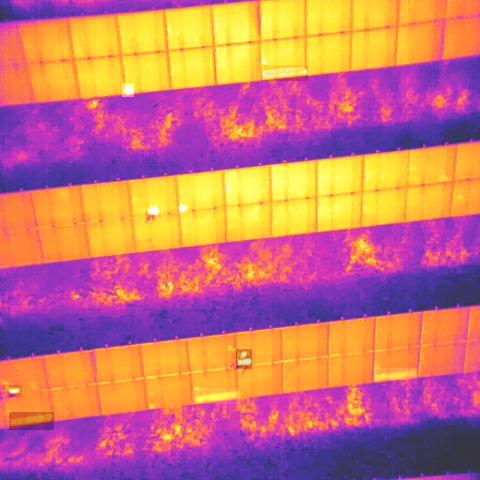fault: (9, 412, 54, 431), (192, 388, 240, 404), (261, 65, 308, 81), (374, 368, 417, 380), (236, 349, 253, 370), (145, 204, 161, 217), (7, 385, 22, 397), (122, 83, 134, 97), (177, 202, 187, 213)
